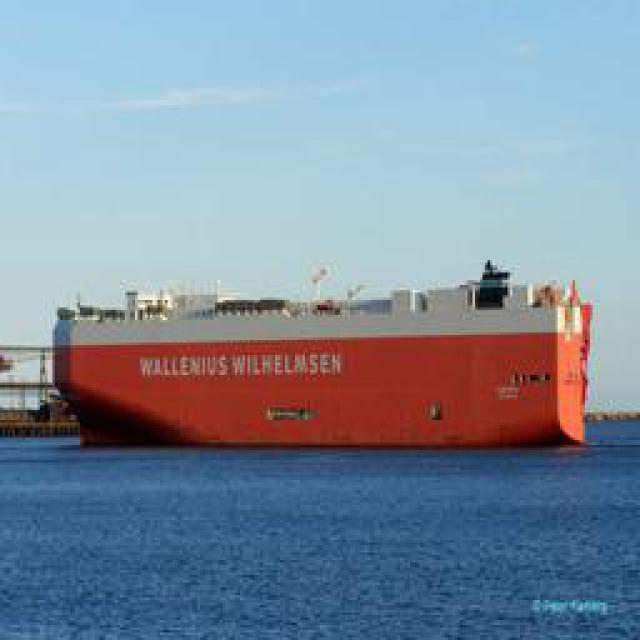Ship: (50, 264, 603, 454)
